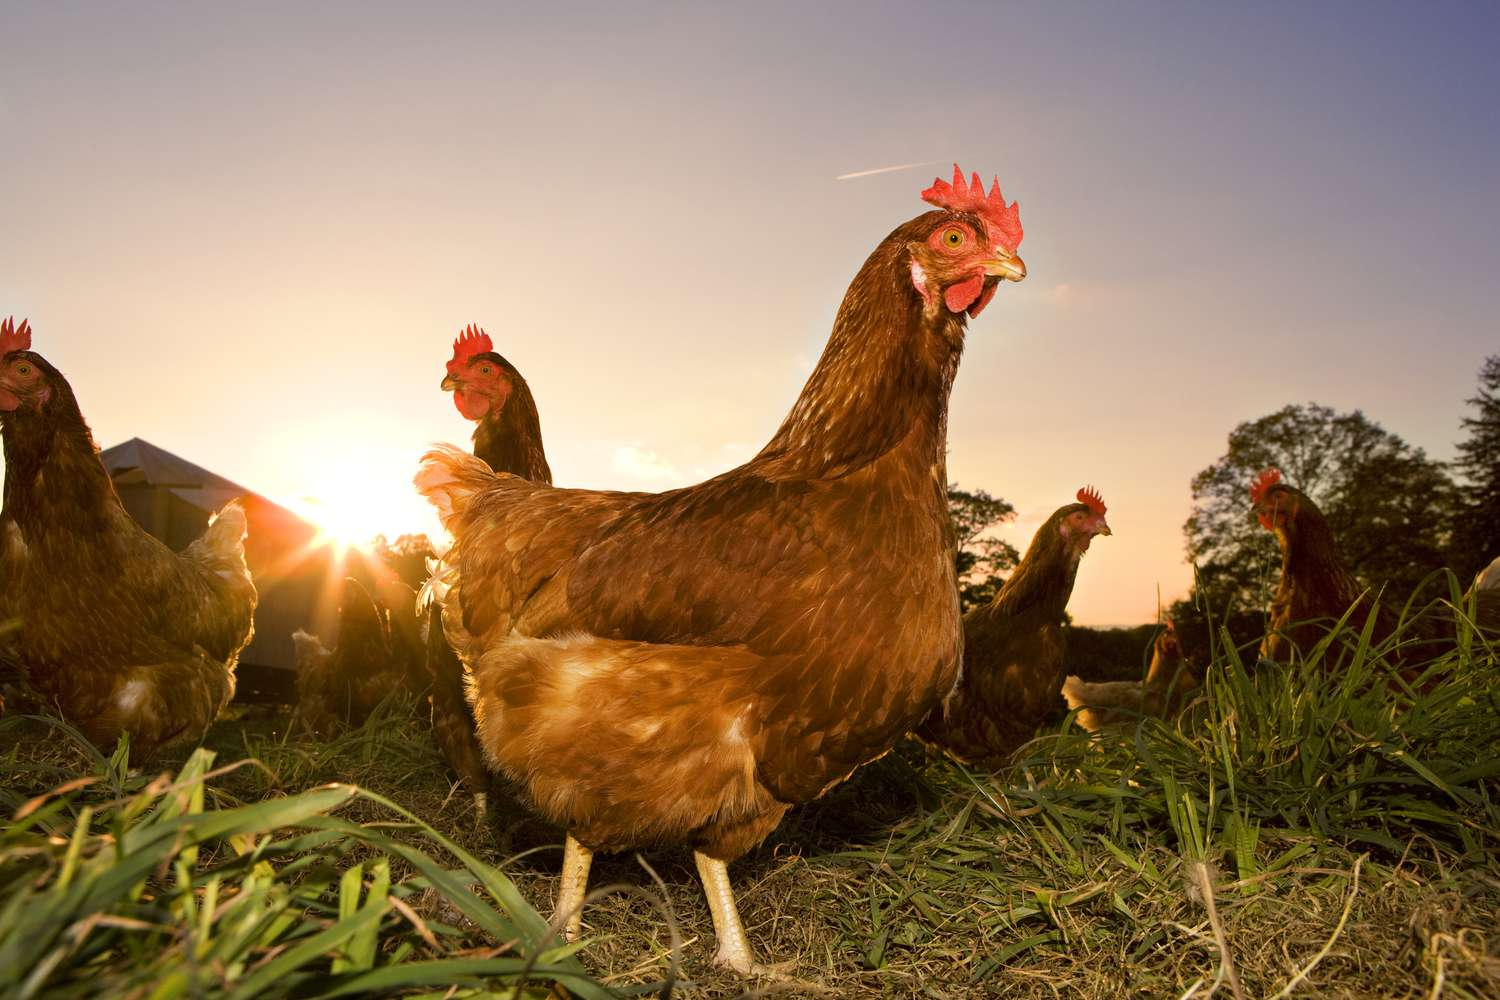Healthy: (386, 151, 1050, 937), (0, 301, 273, 824)
